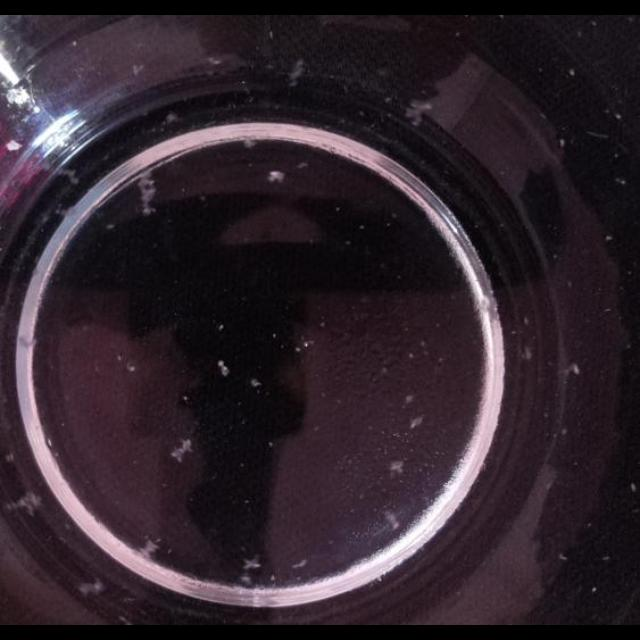Fibre: (1, 484, 44, 520), (238, 556, 270, 590), (68, 574, 108, 600), (136, 176, 160, 214), (405, 98, 435, 124), (133, 536, 159, 564), (172, 438, 194, 462), (389, 460, 405, 474), (410, 415, 424, 431), (218, 360, 230, 378), (268, 170, 284, 183)
microbeads: (568, 362, 580, 374)
